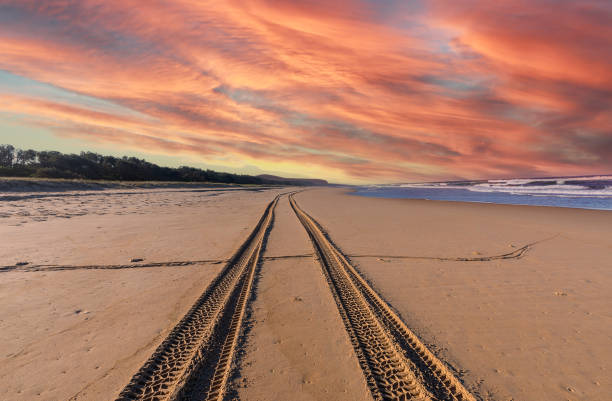vehicle_track: (289, 195, 474, 400), (117, 195, 280, 400)
